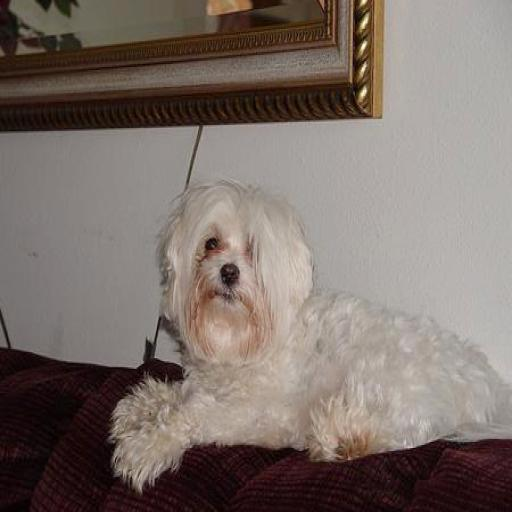dog_face: (163, 185, 308, 370)
